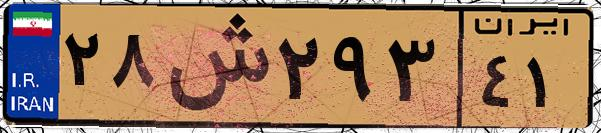1: (525, 38, 570, 115)
2: (270, 28, 330, 110), (57, 26, 110, 100)
3: (385, 28, 445, 110)
4: (475, 38, 525, 113)
8: (110, 28, 158, 98)
9: (330, 28, 385, 110)
ش: (158, 12, 270, 120)
